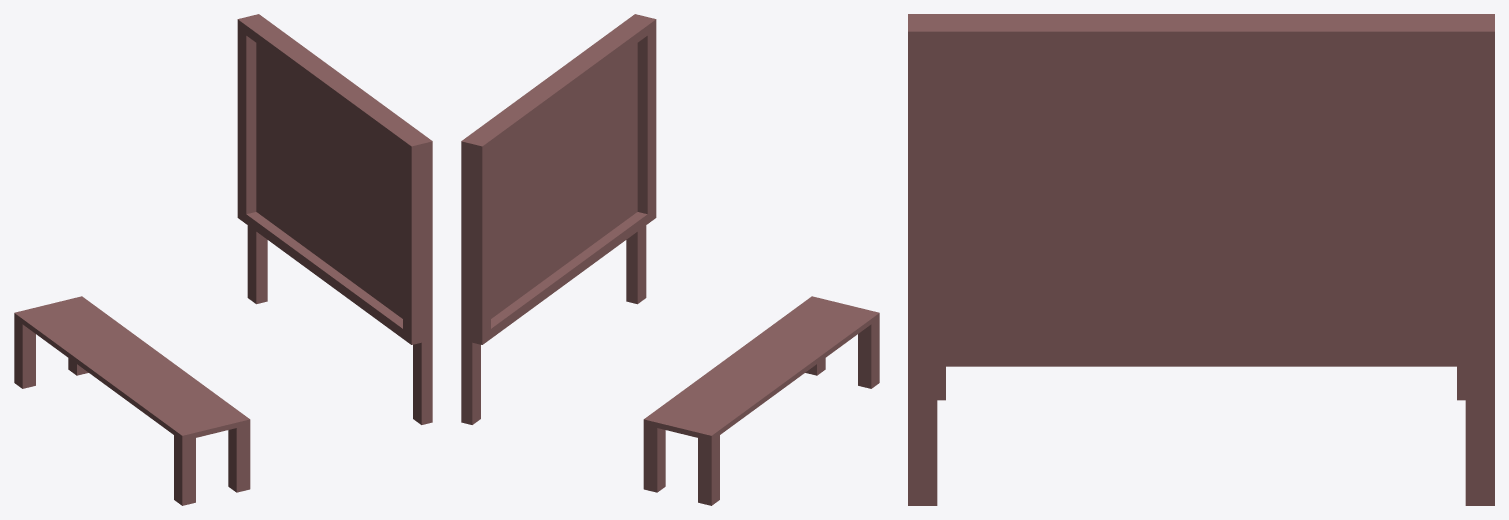
The model's file is assets_escenalobby.fbx.
3 renders of one model, left to right at view 1: azimuth 30°, elevation 25°; view 2: azimuth 150°, elevation 25°; view 3: azimuth 270°, elevation 25°, orthographic. The views are drawn at different scales.
Parts seen in each view (by area): view 1: pCube2, pCube1; view 2: pCube2, pCube1; view 3: pCube2.
Boxes of the visible parts, x1,y1,x2,y2 form: pCube2: (237,14,432,424); pCube1: (14,296,250,505); pCube2: (461,14,656,424); pCube1: (643,296,879,505); pCube2: (908,14,1494,505).
Size of the model in its own units: 6.22 by 7.36 by 7.57.
